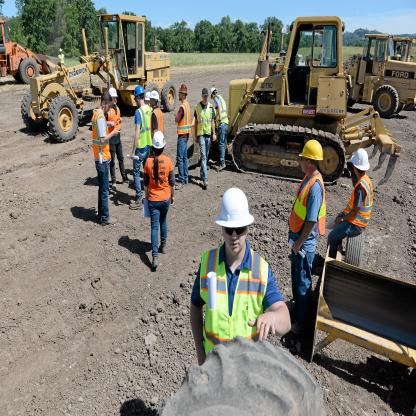person: (201, 182, 274, 395), (344, 134, 392, 278), (146, 131, 175, 288), (293, 139, 307, 377), (90, 90, 113, 233), (170, 72, 191, 220), (131, 82, 148, 205), (108, 87, 124, 188), (198, 84, 211, 200), (212, 81, 226, 161), (146, 88, 168, 134)
